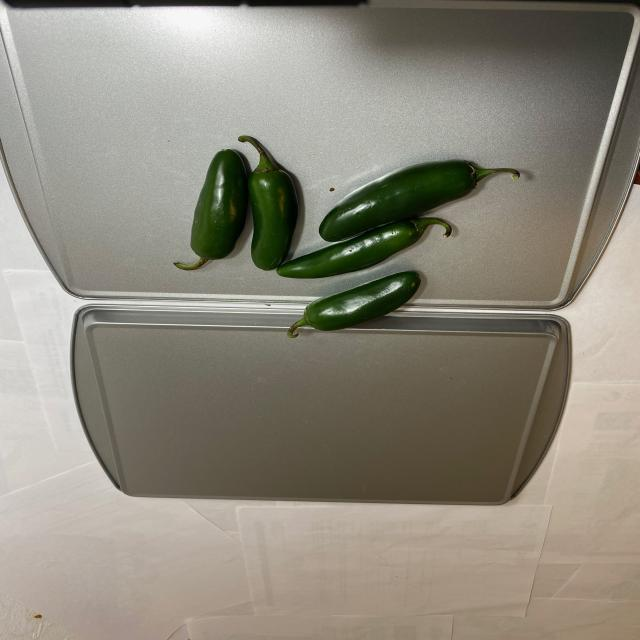chilli: (145, 132, 530, 345)
